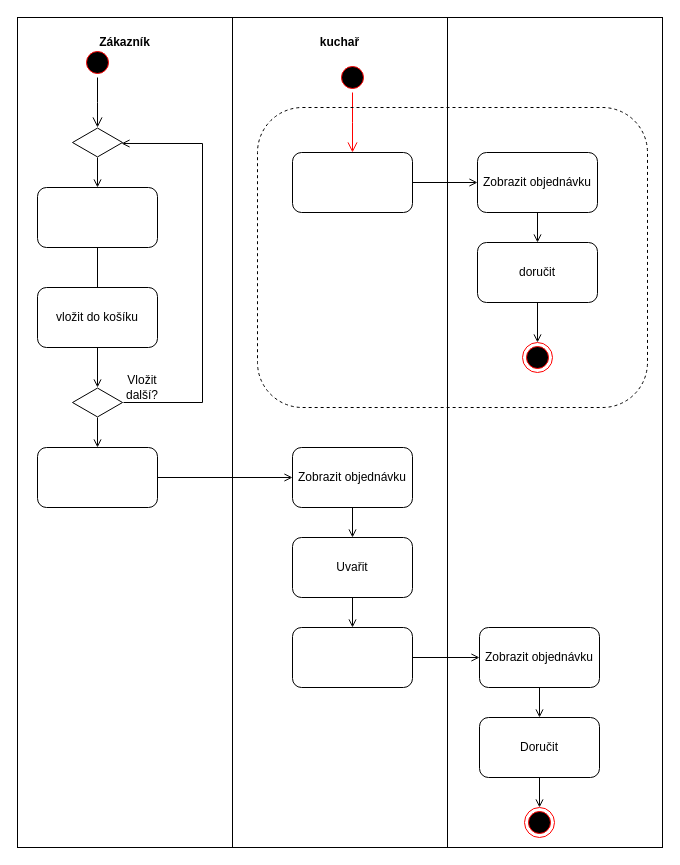
The diagram is 680 pixels wide and 865 high, and some of its shapes have lost their labels. Each missing label, with the box of its shape:
Předat řidiči: (292, 626, 412, 688)
Vybrat jídlo z nabídky: (36, 186, 158, 248)
Zadat objednávku na dovoz ingrediencí: (292, 152, 412, 212)
Zaplatit objednávku: (36, 446, 158, 508)
řidič: (446, 16, 662, 848)
